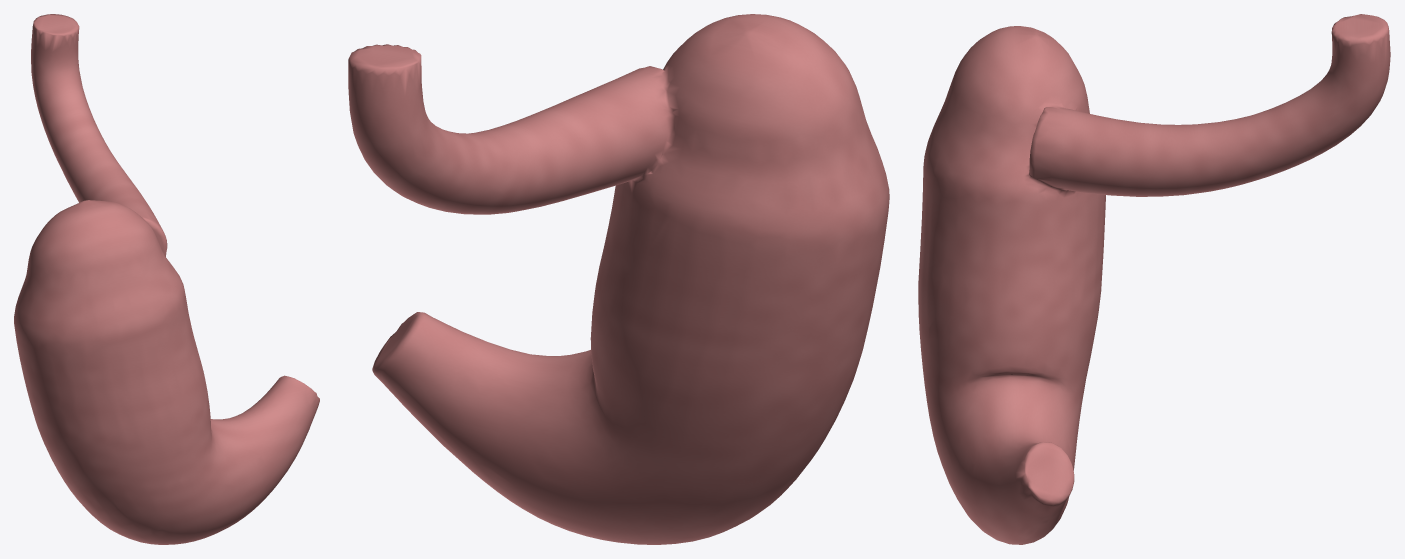
File: innerscene-stomach.glb
The picture shows the model from 3 angles, left to right: view 1: azimuth 30°, elevation 25°; view 2: azimuth 150°, elevation 25°; view 3: azimuth 270°, elevation 25°; orthographic projection. The views are drawn at different scales.
Parts seen in each view (by area): view 1: Stomach fundus body antrum and esophageal stub; view 2: Stomach fundus body antrum and esophageal stub; view 3: Stomach fundus body antrum and esophageal stub.
Boxes of the visible parts, bbox=[...] form: Stomach fundus body antrum and esophageal stub: bbox=[14, 14, 319, 544]; Stomach fundus body antrum and esophageal stub: bbox=[348, 14, 889, 544]; Stomach fundus body antrum and esophageal stub: bbox=[918, 14, 1390, 544].
Bounding box in the file's own units: 0.1368 × 0.1745 × 0.1477.
Materials: 1 (1 with a texture image).
